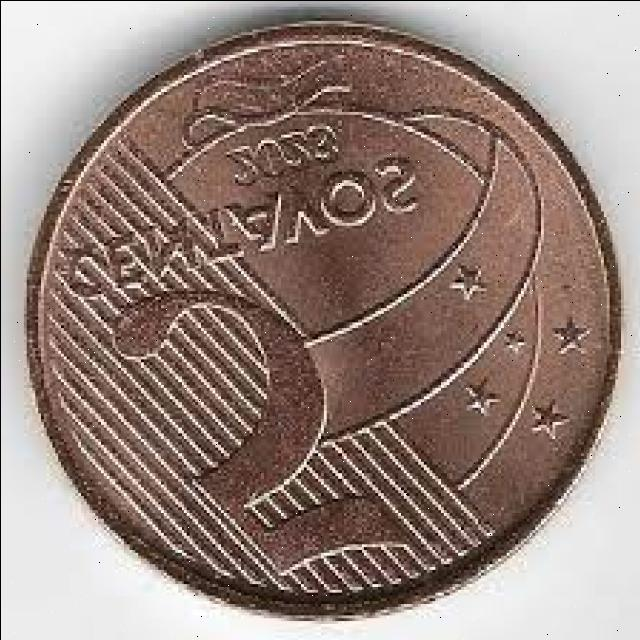5 cent: (23, 18, 624, 626)
